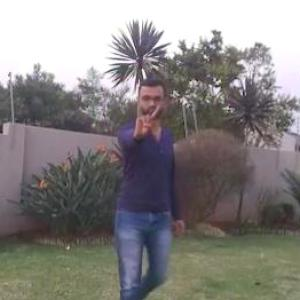takeoff-hand: (124, 93, 166, 143)
